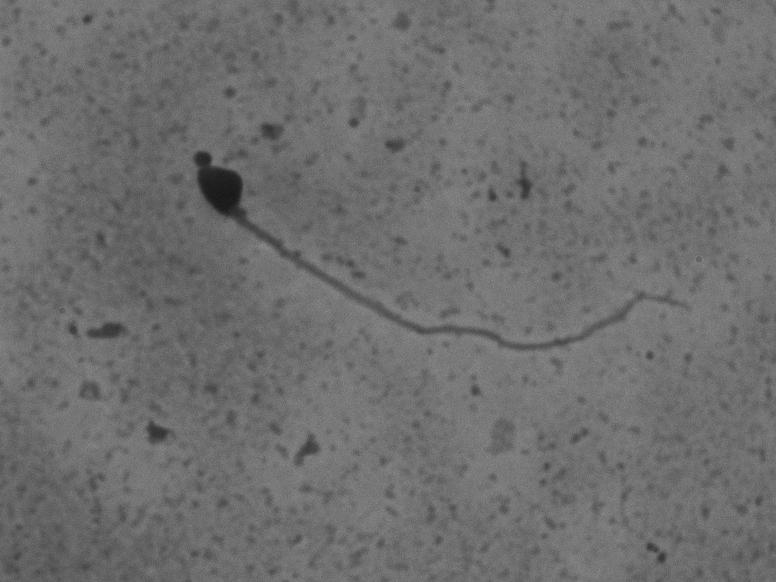Abnormal: (148, 146, 686, 419)
